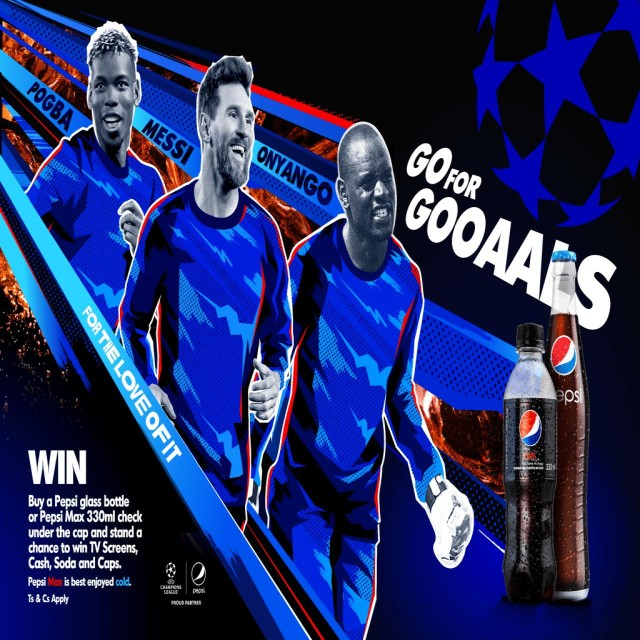pepsi: (551, 336, 579, 372), (518, 411, 543, 448)
